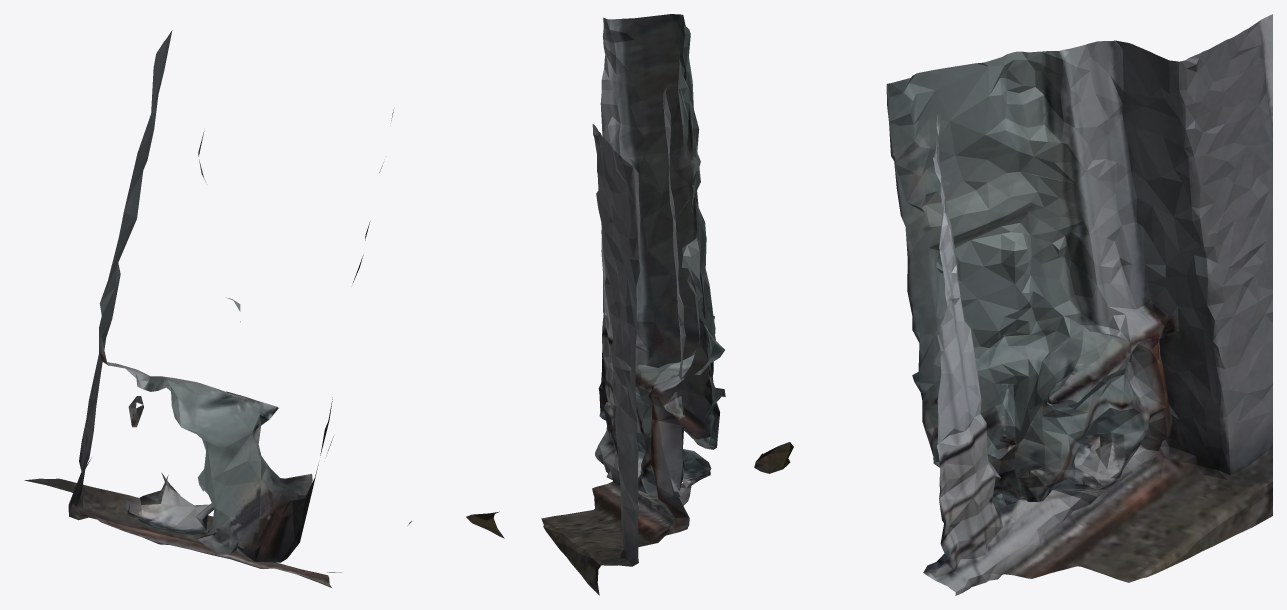
3 renders of one model, left to right at view 1: azimuth 30°, elevation 25°; view 2: azimuth 150°, elevation 25°; view 3: azimuth 270°, elevation 25°, orthographic. The views are drawn at different scales.
Bounding box in the file's own units: 0.3816 × 0.8374 × 0.8186.
3 materials, 3 textured.
